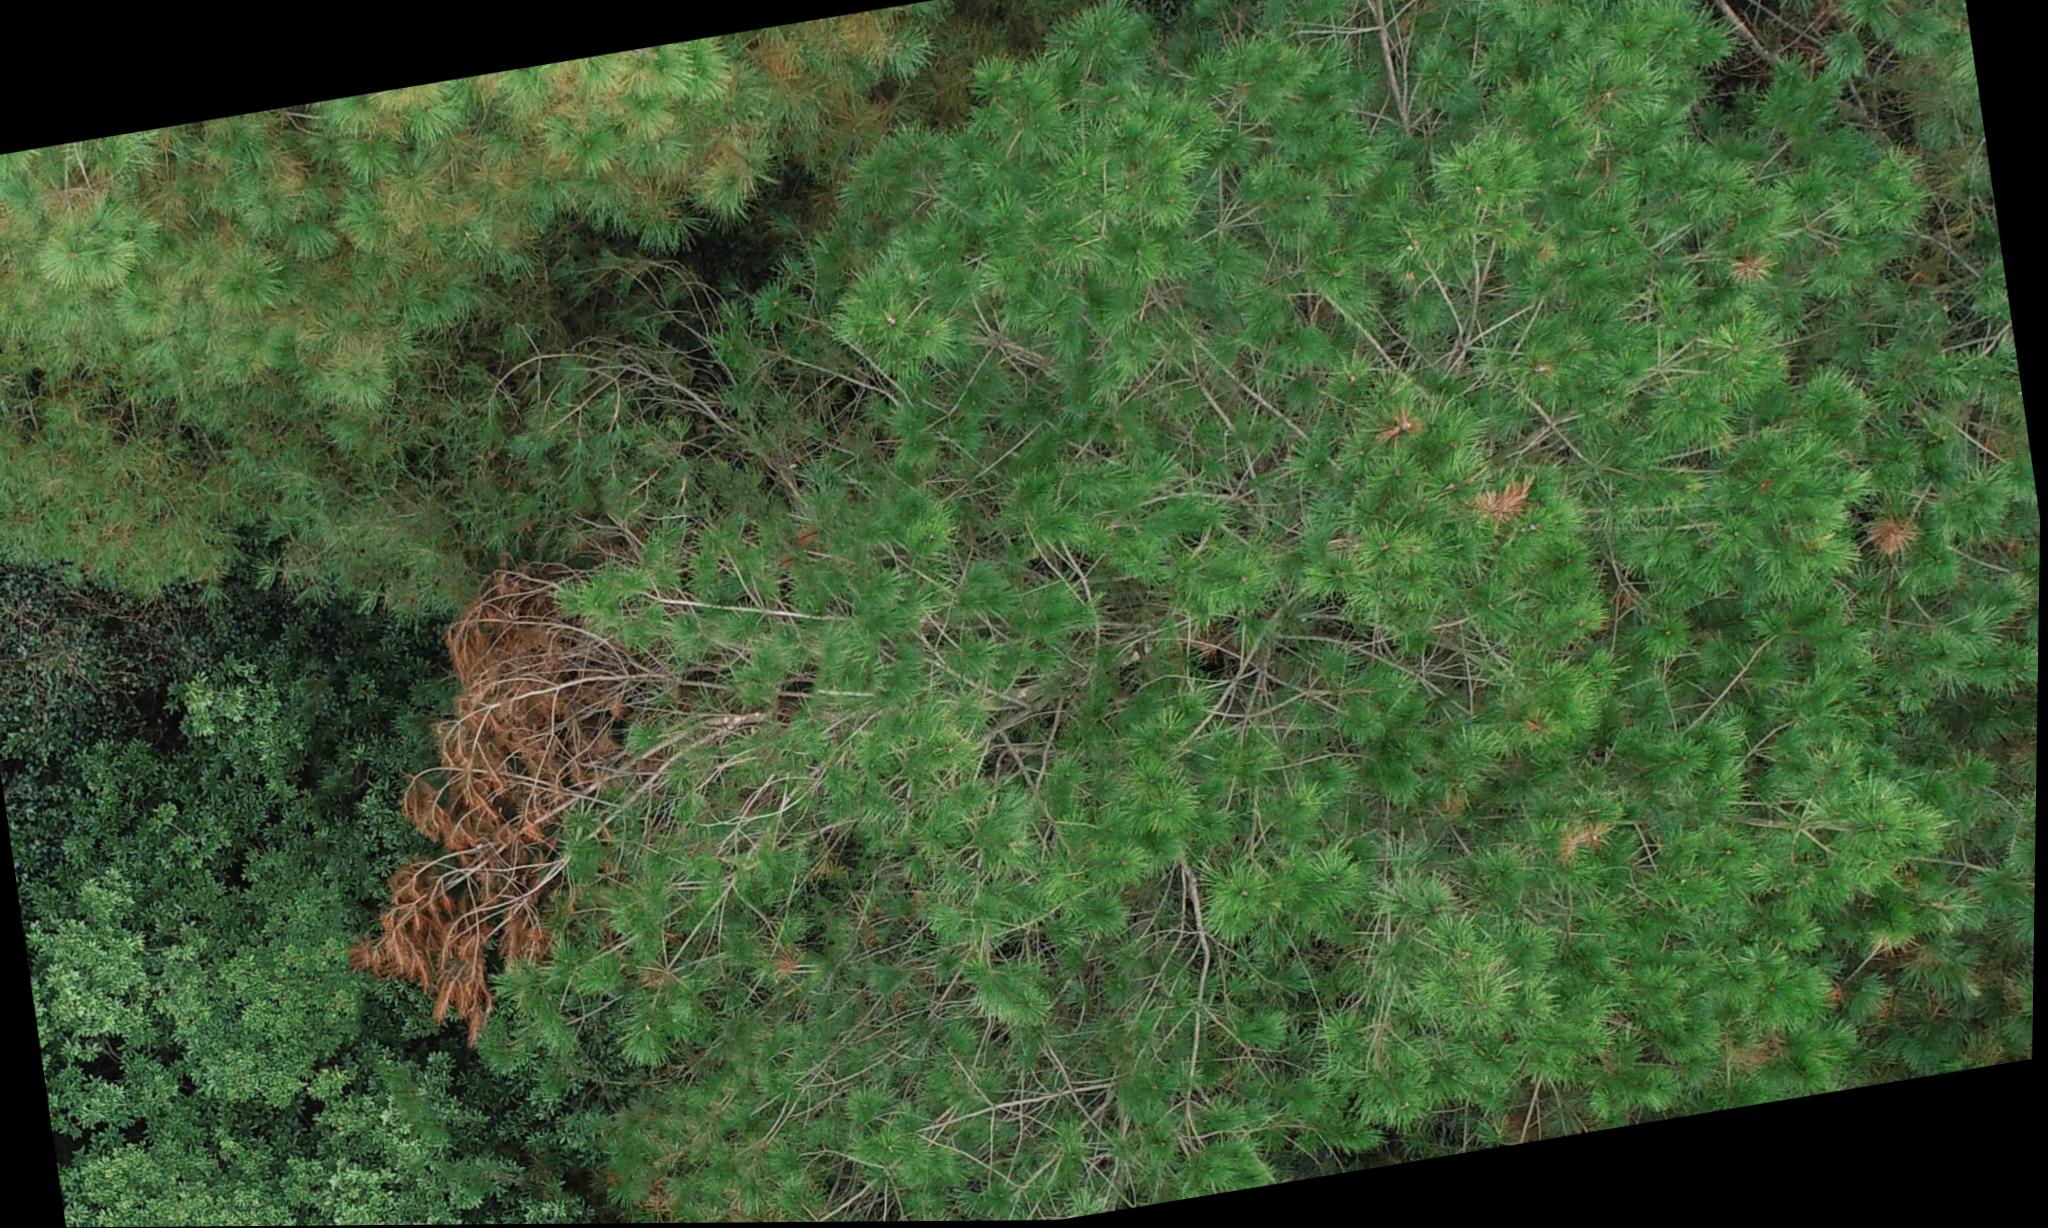heavy: (317, 534, 748, 1055)
light: (0, 7, 956, 475)
